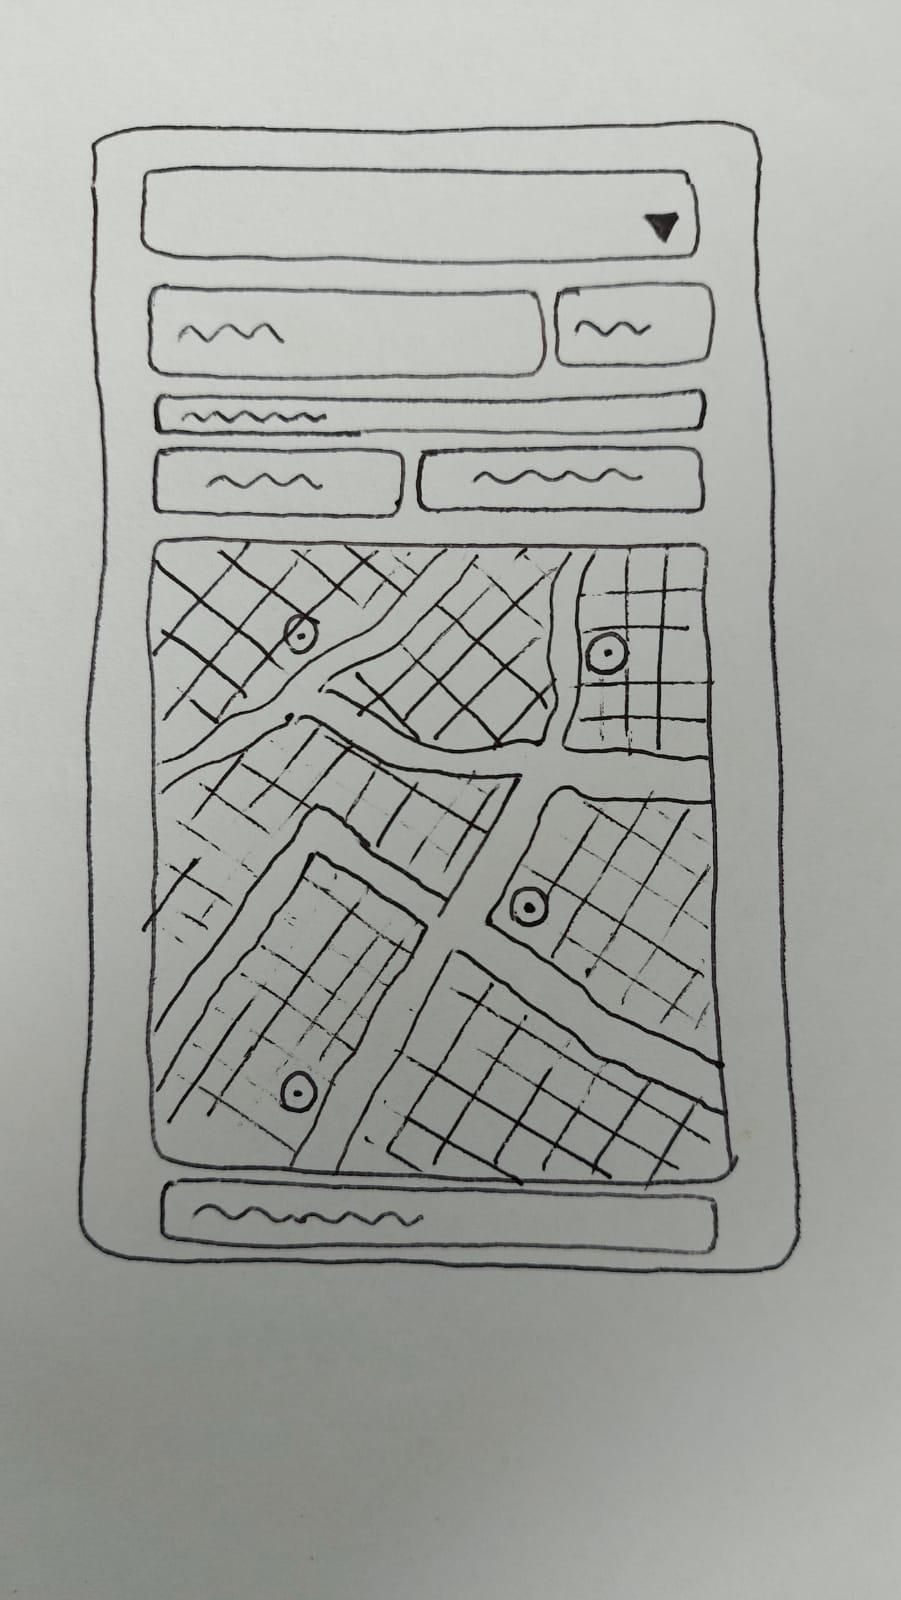Button: (160, 1176, 719, 1254), (416, 446, 707, 514), (153, 447, 405, 518)
ListPicker: (142, 164, 701, 264)
Map: (144, 537, 734, 1185)
Screen: (78, 121, 804, 1275)
TextBox: (146, 285, 546, 379), (154, 387, 708, 436), (554, 280, 715, 368)
